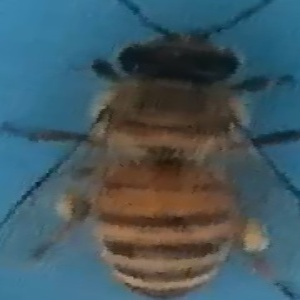bee: (8, 4, 297, 298)
